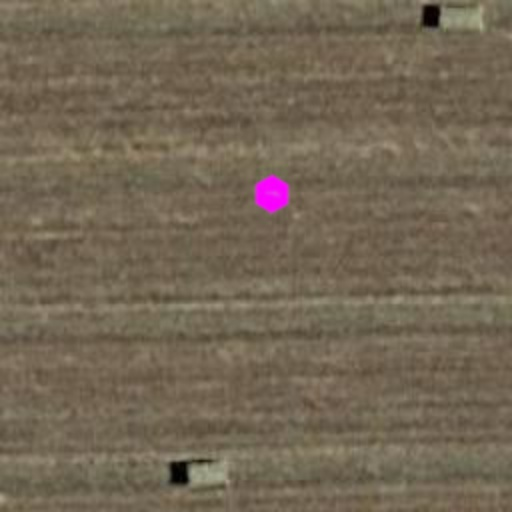hexagon: (252, 174, 292, 214)
